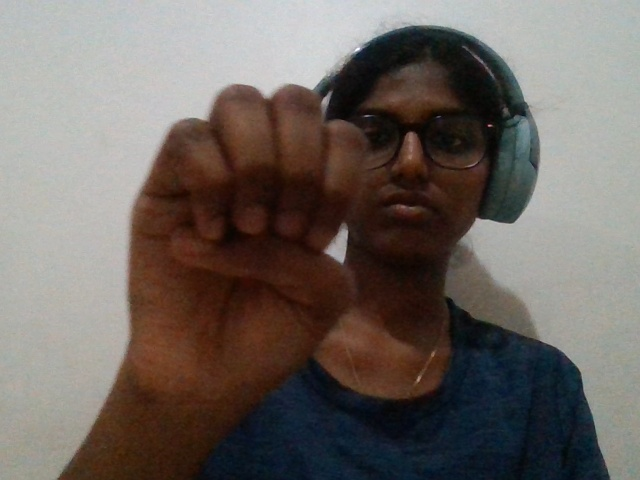E: (115, 70, 384, 422)
